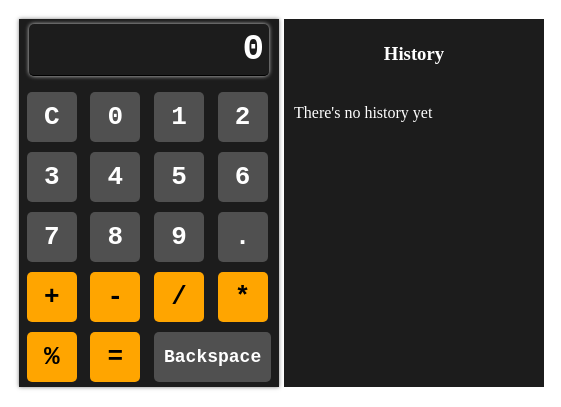
Test: Check all button are working except =
Click the button "1": (179, 117) [154,92,204,142]
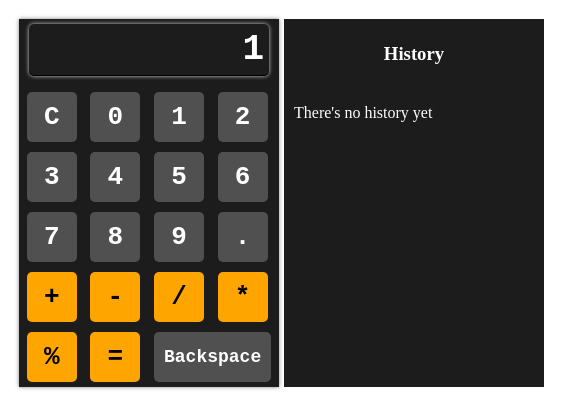
Check: the text with test id "OutputScreen" reads "1", box [242,29,264,70]
Click the button "+": (52, 297) [27,272,77,322]
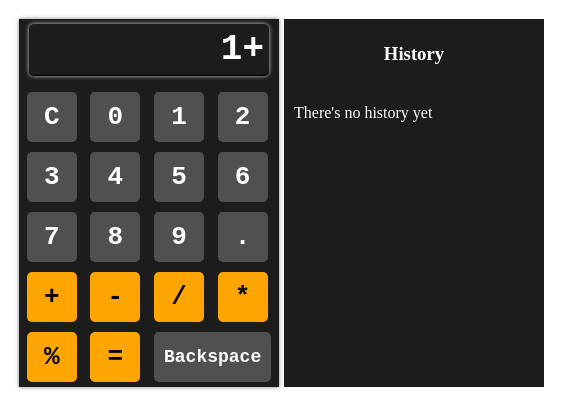
Check: the text with test id "OutputScreen" reads "1+", box [221,29,264,70]
Click the button "2": (243, 117) [218,92,268,142]
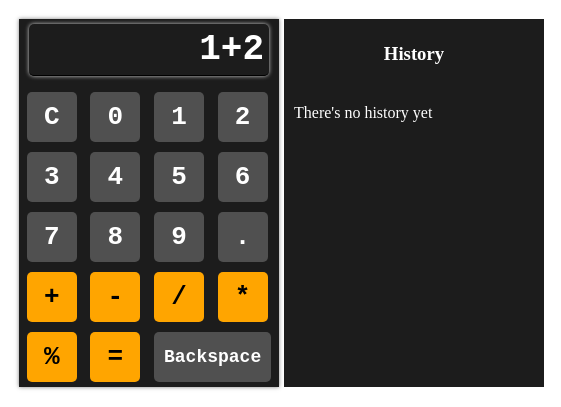
Check: the text with test id "OutputScreen" reads "1+2", box [199,29,264,70]
